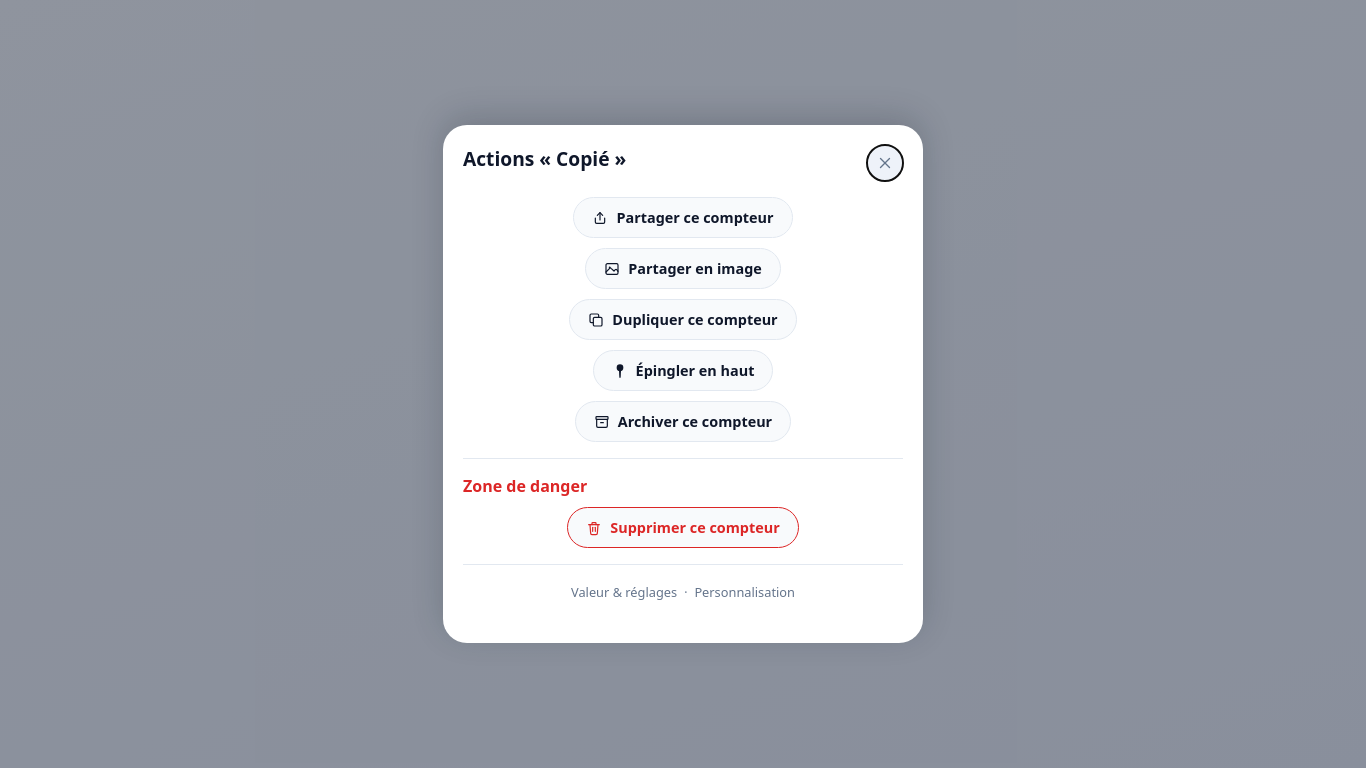
Test: CounterActionsPanel › partage › copie dans le presse-papiers quand navigator.share est indisponible
Click the button "Partager ce compteur". click: click(683, 218)
box: [574, 197, 792, 238]
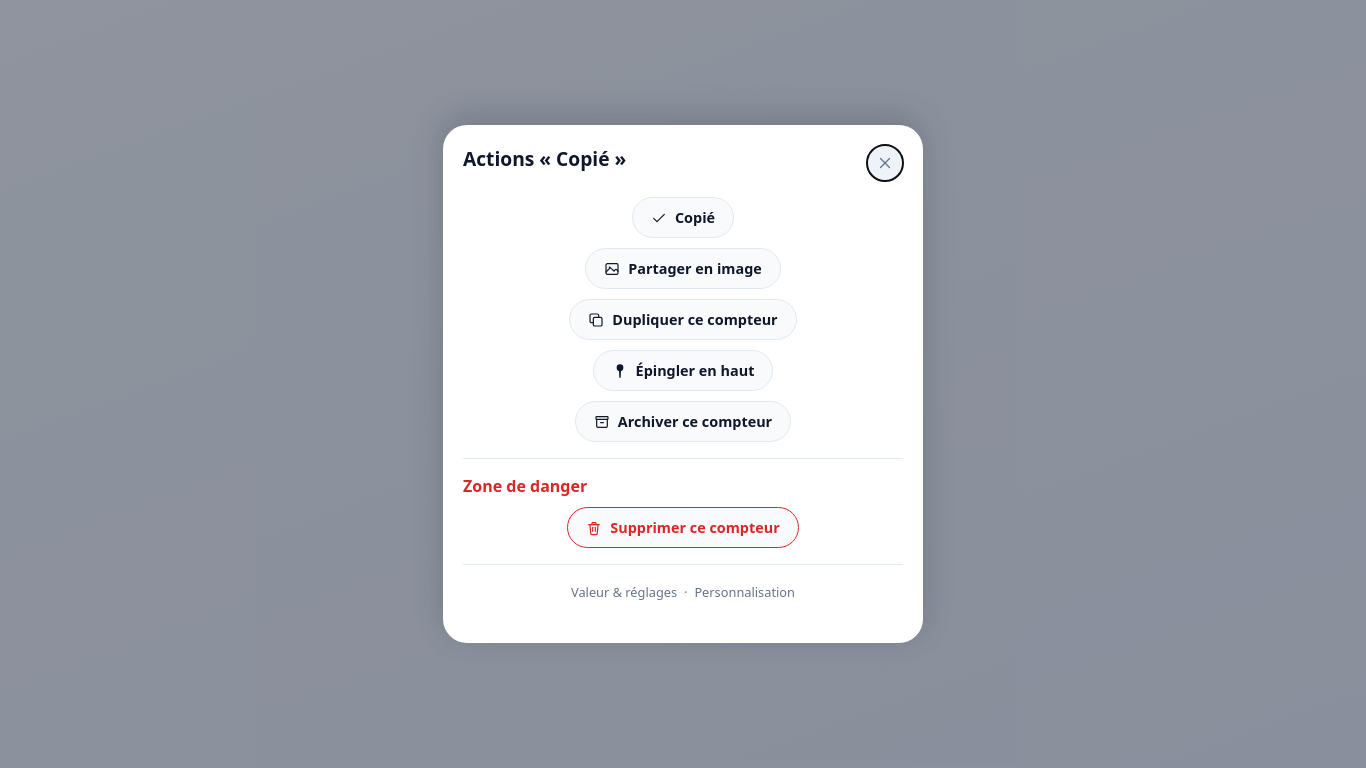
Check: the button "Copié" is shown, box [632, 197, 734, 238]
